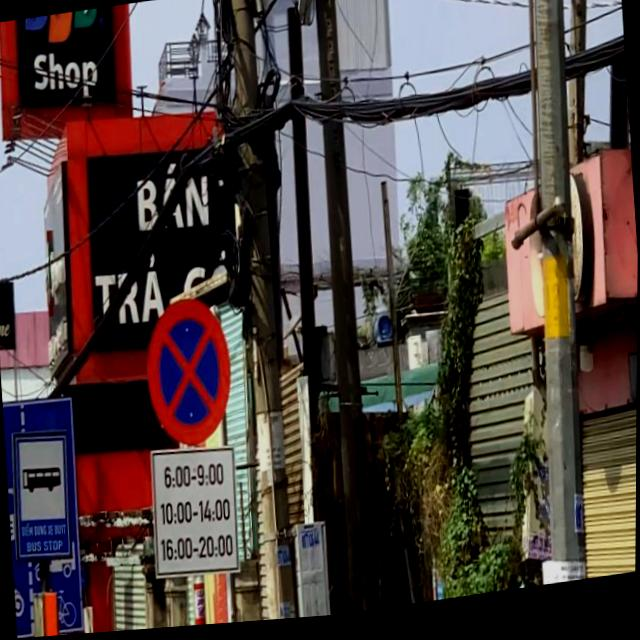Cam dung xe va do xe: (141, 293, 237, 456)
